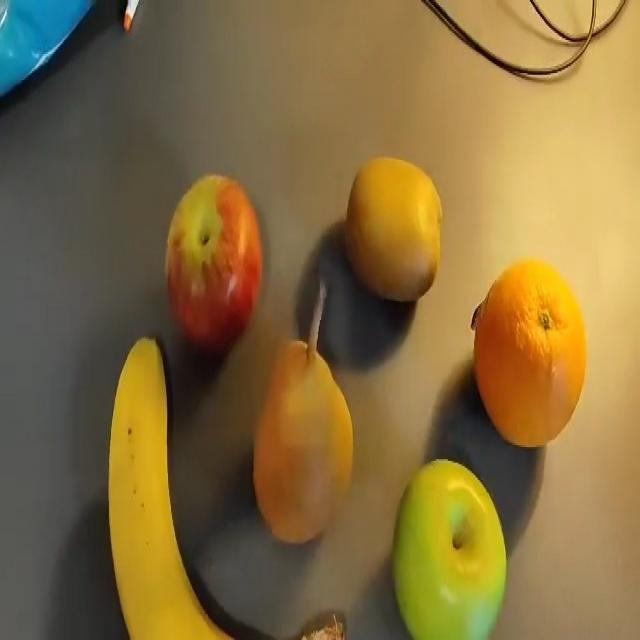Apple: (391, 458, 508, 639), (164, 172, 263, 353)
Banana: (107, 335, 234, 639)
Orange: (469, 258, 587, 448)
